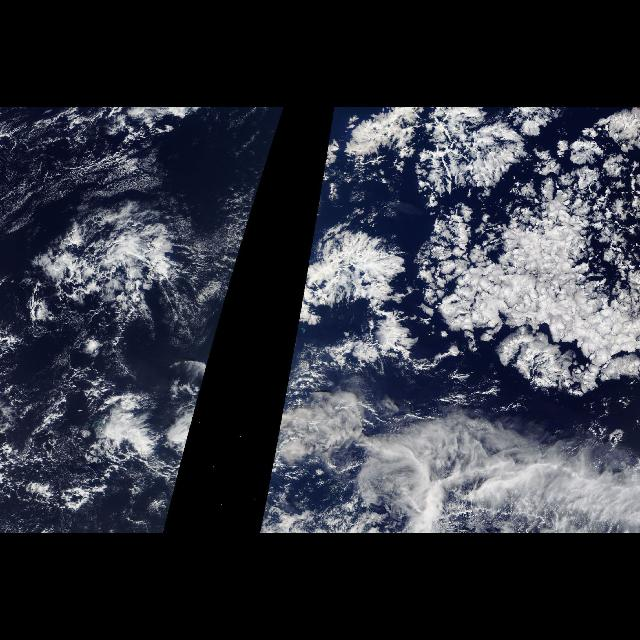Fish: (21, 202, 220, 468)
